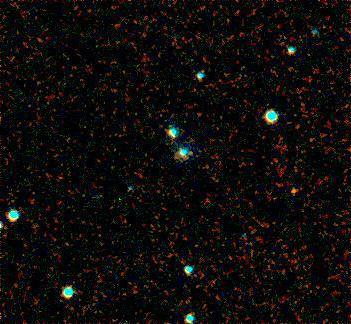star: (279, 177, 309, 207)
